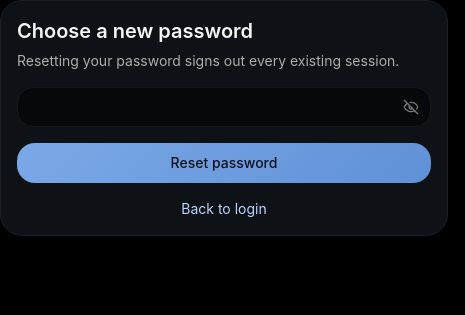
Test: preserves a reset token after a failed attempt for retry
Type "new correct horse battery staple" into the password field named "New password" at (224, 107), box [17, 87, 431, 127]
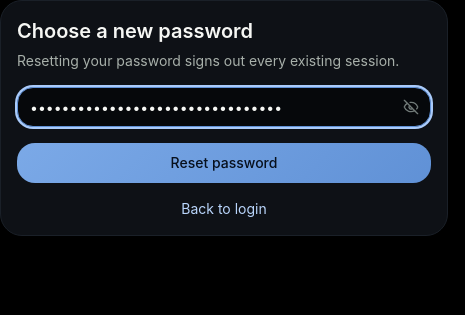
Click the button "Reset password" at (224, 163), box [17, 143, 431, 183]
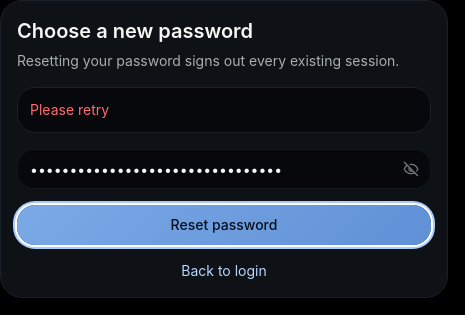
Expected: the button "Reset password" is enabled, [17, 205, 431, 245]
Expected: the text "Please retry" is shown, [30, 101, 109, 118]
